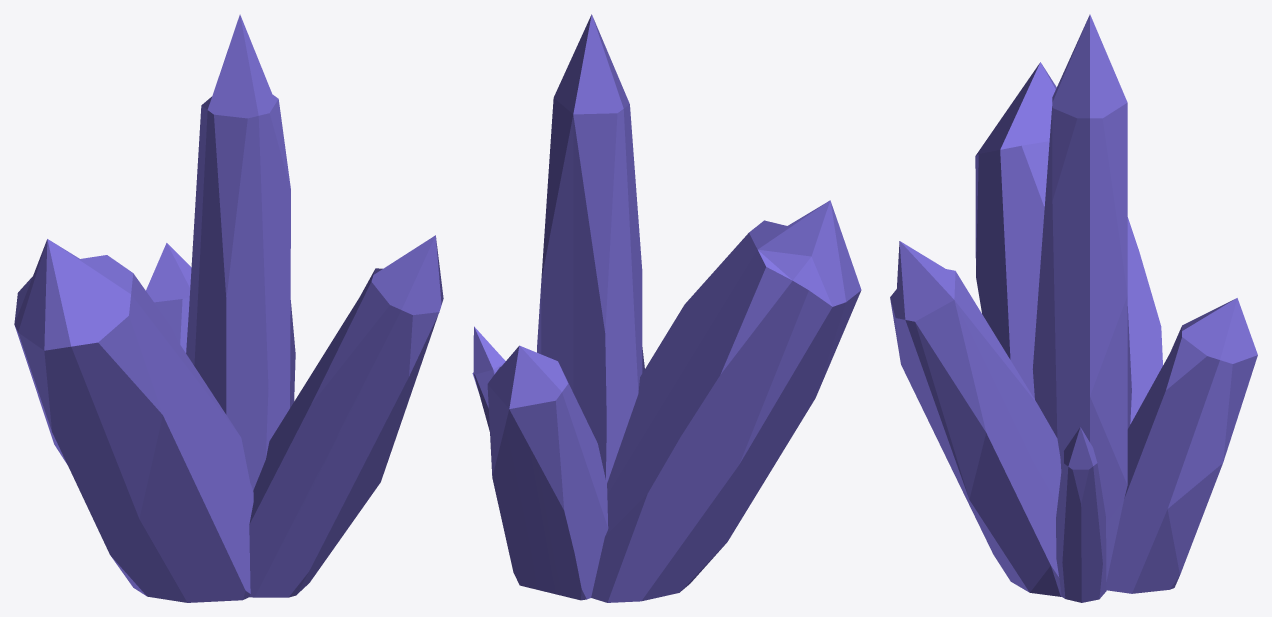
Rendered from Kryształ.fbx.
3 views of the same model, side by side, from view 1: azimuth 30°, elevation 25°; view 2: azimuth 150°, elevation 25°; view 3: azimuth 270°, elevation 25° (orthographic).
Visible parts, largest first — view 1: Cube.003; view 2: Cube.003; view 3: Cube.003.
Boxes of the visible parts, bbox=[...] form: Cube.003: bbox=[14, 14, 443, 602]; Cube.003: bbox=[472, 14, 861, 602]; Cube.003: bbox=[890, 14, 1257, 602].
Bounding box in the file's own units: 1.6 × 2.33 × 1.39.
